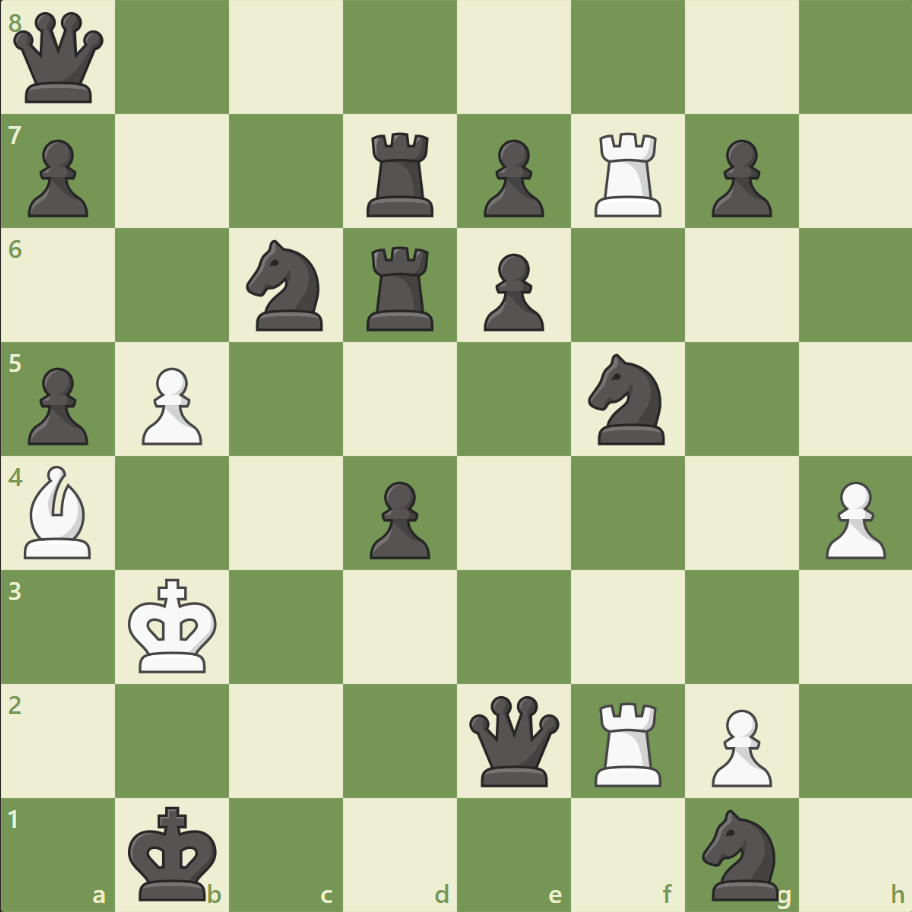B: (17, 460, 101, 563)
K: (124, 571, 224, 679)
P: (133, 359, 208, 450), (701, 700, 776, 791), (815, 473, 889, 564)
R: (587, 125, 670, 222), (587, 693, 670, 790)
k: (124, 798, 224, 906)
n: (238, 234, 335, 337), (579, 348, 676, 450), (692, 802, 789, 904)
p: (20, 132, 95, 223), (474, 132, 549, 223), (701, 132, 776, 223), (474, 246, 549, 337), (20, 359, 95, 450), (361, 473, 435, 564)
q: (10, 9, 109, 108), (464, 690, 563, 789)
r: (360, 125, 442, 222), (360, 239, 442, 336)
